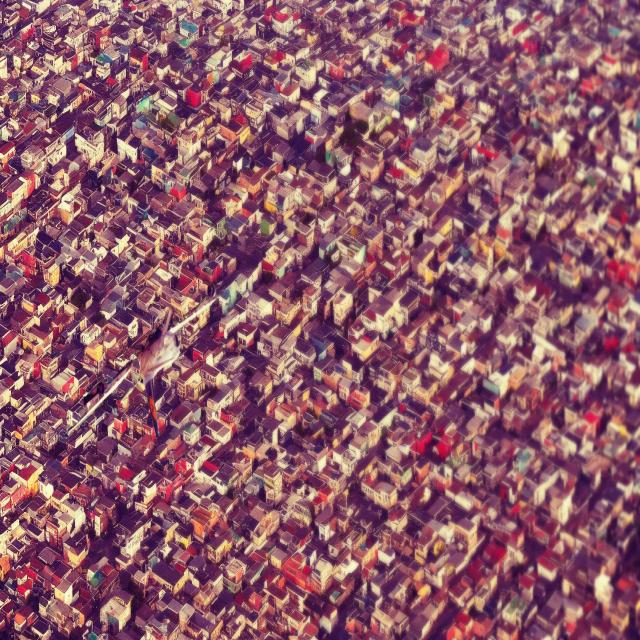airplane: (66, 296, 220, 438)
